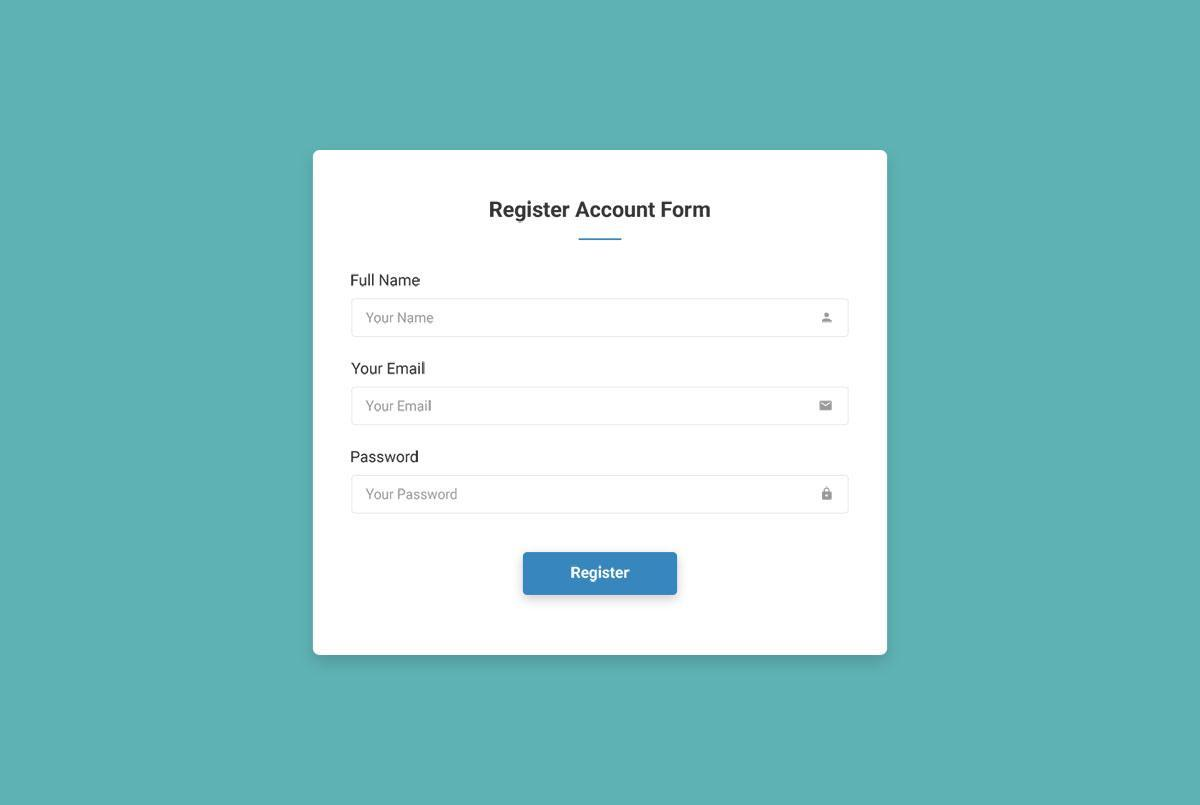button: (523, 553, 679, 597)
icon: (819, 483, 839, 504), (818, 399, 836, 416), (820, 309, 835, 327)
input: (351, 296, 852, 340), (353, 385, 851, 428), (348, 476, 849, 515)
label: (479, 195, 719, 228), (352, 355, 428, 385), (344, 271, 433, 293), (348, 449, 425, 469)
